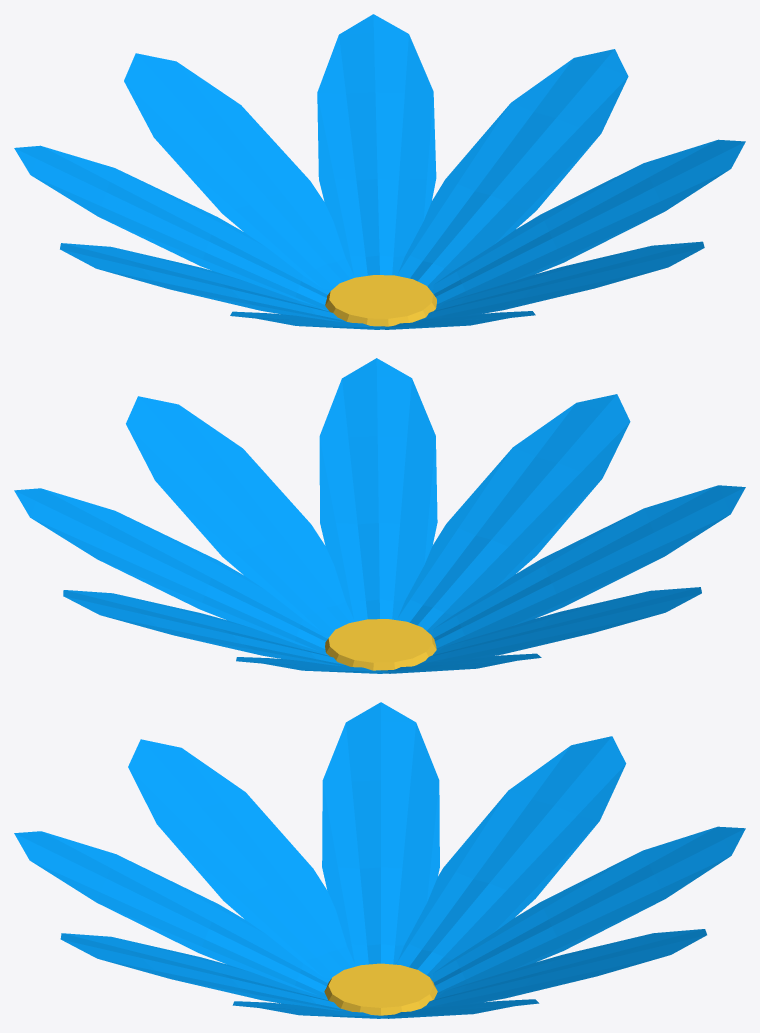
File: flower3.fbx
3 renders of one model, top to bottom at view 1: azimuth 30°, elevation 25°; view 2: azimuth 150°, elevation 25°; view 3: azimuth 270°, elevation 25°, orthographic.
Parts seen in each view (by area): view 1: Circle, Circle.001; view 2: Circle, Circle.001; view 3: Circle, Circle.001.
Part boxes in pixels (box(x1,y1,x2,y2)): Circle: box(14, 14, 745, 329); Circle.001: box(325, 275, 436, 326); Circle: box(14, 358, 745, 673); Circle.001: box(325, 619, 436, 670); Circle: box(14, 702, 745, 1018); Circle.001: box(324, 963, 437, 1015).
Size of the model in its own units: 156 by 36.66 by 158.
